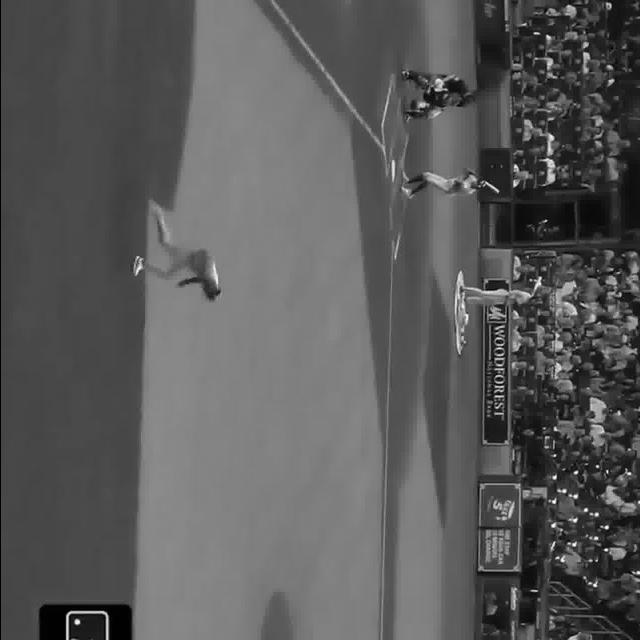base: (391, 158, 396, 180)
bat: (457, 159, 501, 197), (525, 275, 541, 305)
shoe: (132, 254, 142, 276), (148, 206, 164, 218), (398, 170, 408, 187), (401, 108, 410, 124), (401, 69, 408, 87), (399, 187, 412, 196)
